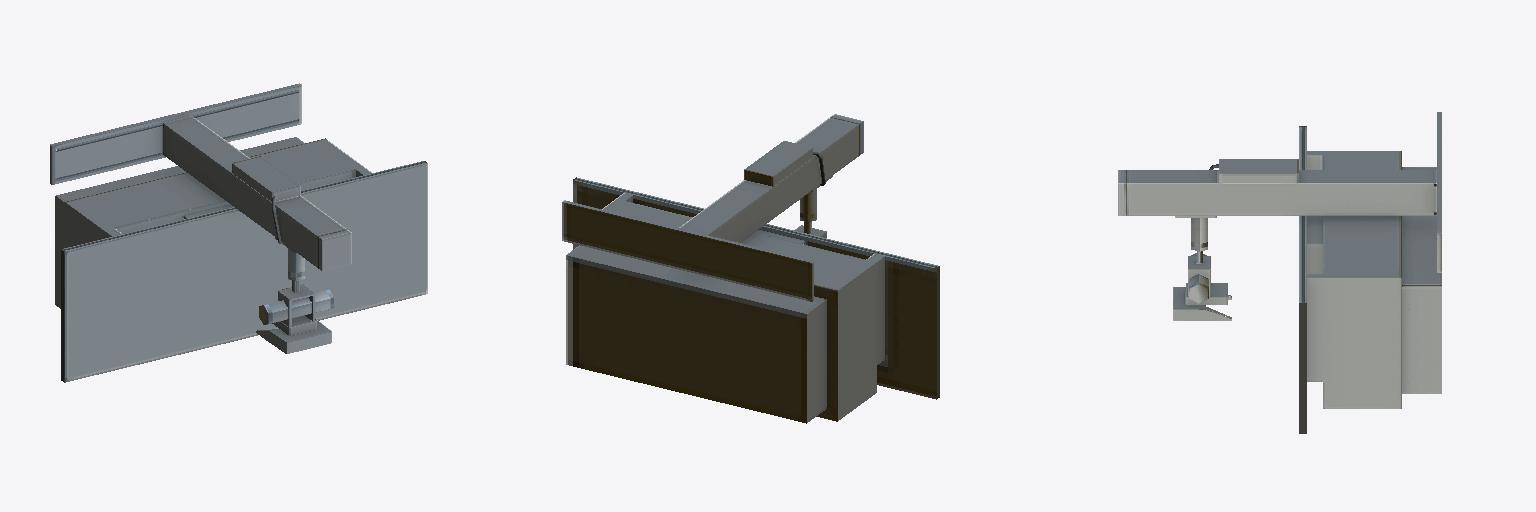
3 views of the same model, side by side, from view 1: azimuth 30°, elevation 25°; view 2: azimuth 150°, elevation 25°; view 3: azimuth 270°, elevation 25° (orthographic).
Parts seen in each view (by area): view 1: XRayMachine; view 2: XRayMachine; view 3: XRayMachine.
Boxes of the visible parts, <box> form: XRayMachine: <box>50,83,427,382</box>; XRayMachine: <box>562,114,939,423</box>; XRayMachine: <box>1118,112,1441,433</box>.
Bounding box in the file's own units: 2.33 × 1.09 × 1.8.
1 materials, 1 textured.